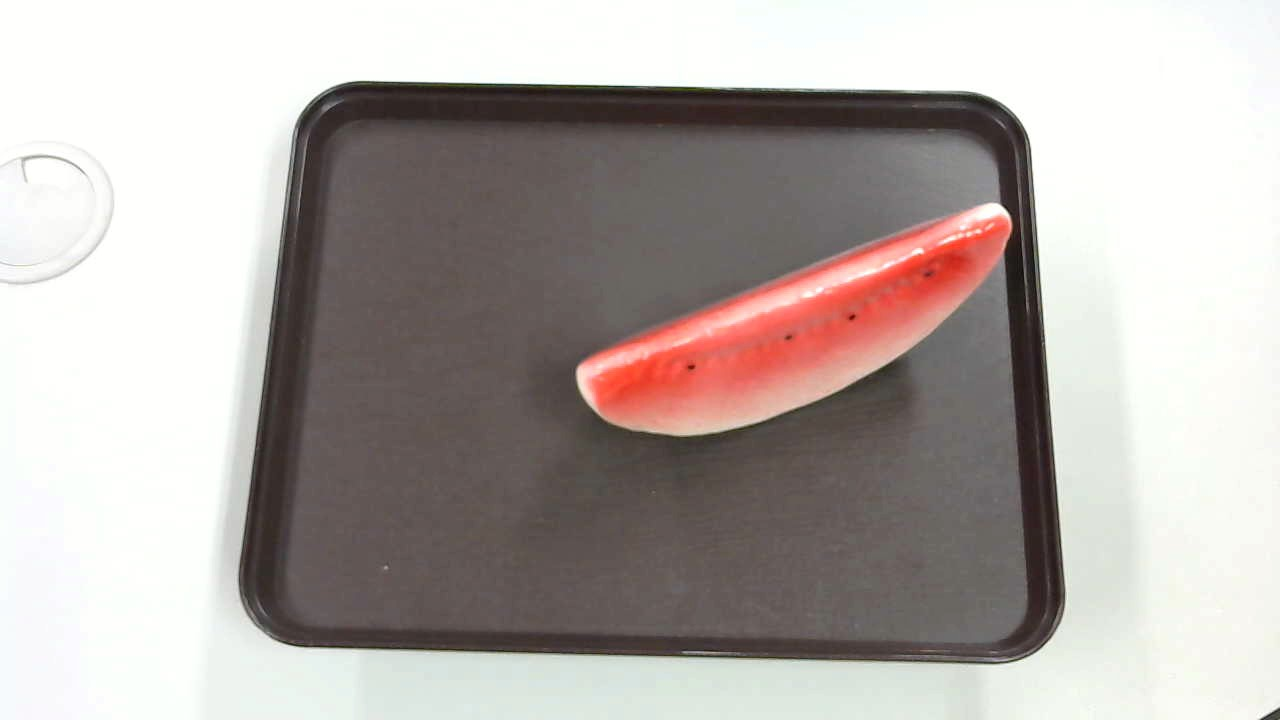water melon: (571, 200, 1022, 444)
